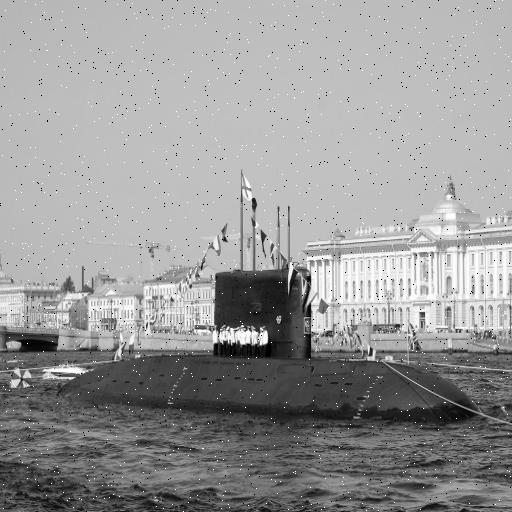submarine: (58, 269, 487, 416)
